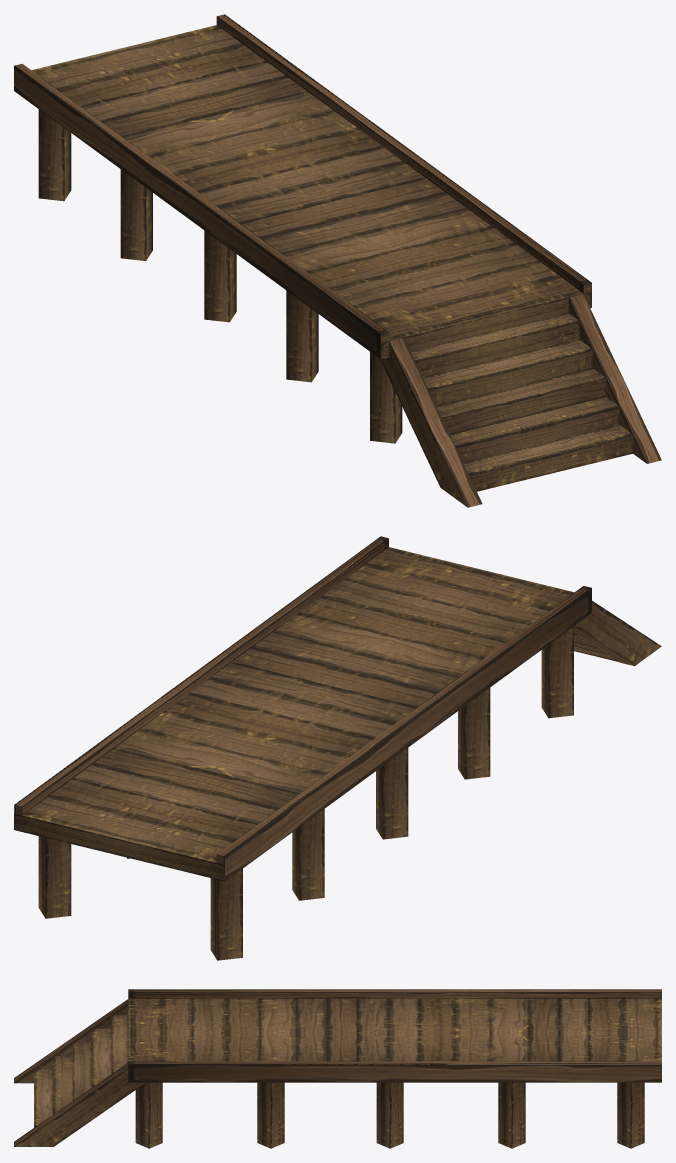
Rendered from Deck_02.FBX.
The picture shows the model from 3 angles, top to bottom: view 1: azimuth 30°, elevation 25°; view 2: azimuth 150°, elevation 25°; view 3: azimuth 270°, elevation 25°; orthographic projection. The views are drawn at different scales.
Visible parts, largest first — view 1: Deck_02; view 2: Deck_02; view 3: Deck_02.
Boxes of the visible parts, bbox=[...] form: Deck_02: bbox=[14, 14, 661, 507]; Deck_02: bbox=[14, 536, 661, 960]; Deck_02: bbox=[14, 989, 661, 1148].
Size of the model in its own units: 2.03 by 7.41 by 1.08.
